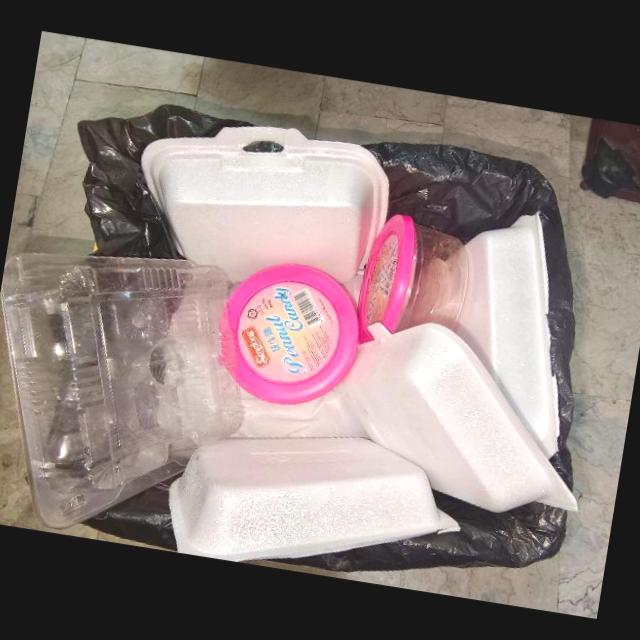hop_nhua: (218, 265, 360, 407), (357, 215, 466, 335)
xop: (0, 254, 246, 531), (337, 323, 579, 514), (140, 126, 390, 284), (167, 438, 460, 563), (455, 213, 559, 460)
